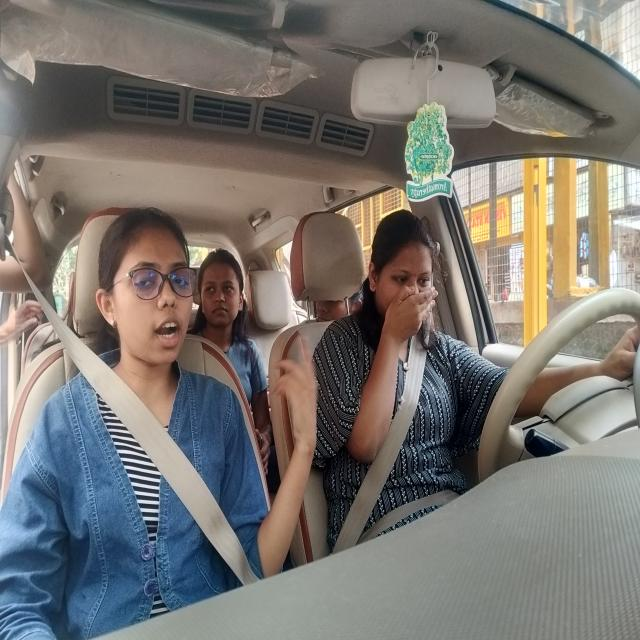drowsy: (362, 212, 448, 354)
person: (90, 204, 203, 370), (186, 246, 250, 342)
